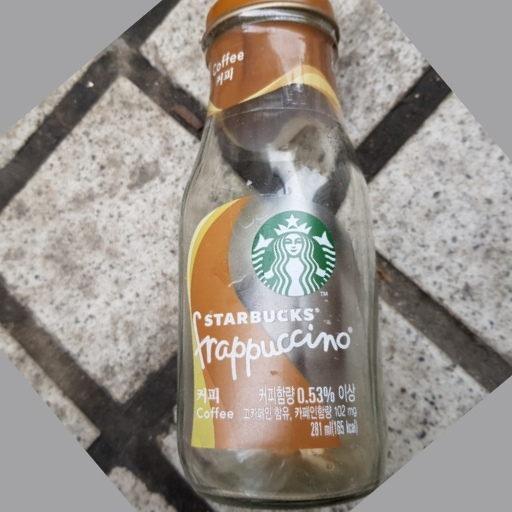Glass_4: (175, 1, 381, 507)
